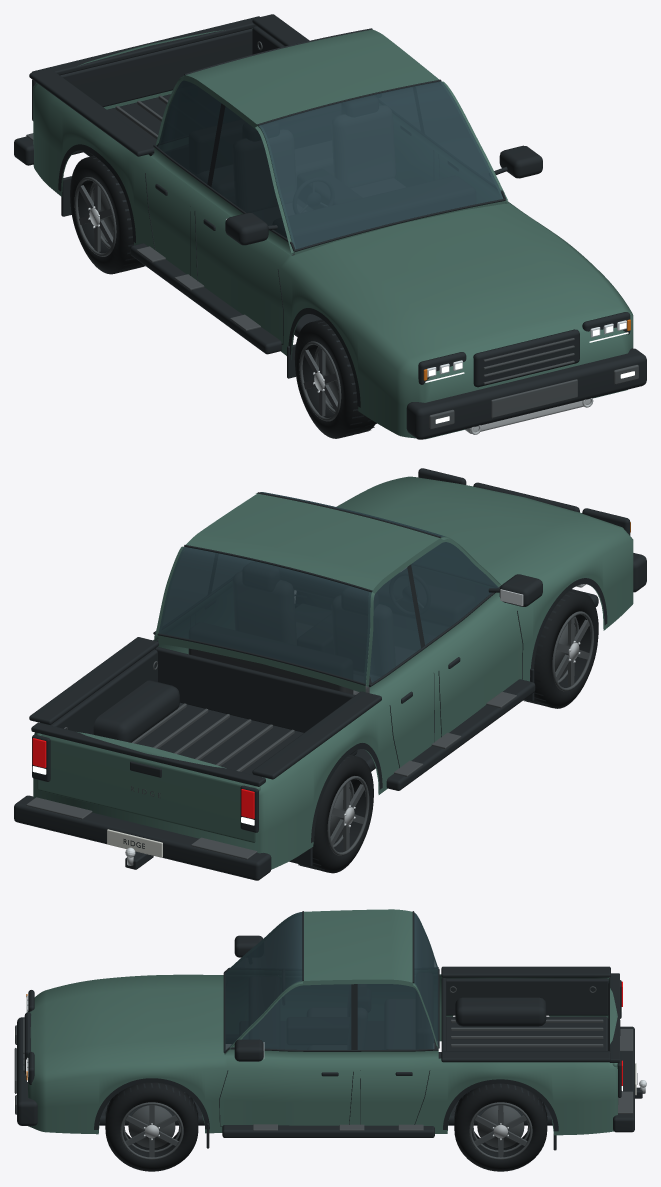
Rendered from support_pickup.glb.
3 renders of one model, top to bottom at view 1: azimuth 30°, elevation 25°; view 2: azimuth 150°, elevation 25°; view 3: azimuth 270°, elevation 25°, orthographic. The views are drawn at different scales.
Visible parts, largest first — view 1: SupportPickupBodyStatic, SupportPickupGlassPanels, SupportPickupInteriorAssembly, PickupWheelFrontLGeometry, PickupWheelRearLGeometry; view 2: SupportPickupBodyStatic, SupportPickupGlassPanels, SupportPickupInteriorAssembly, PickupWheelFrontLGeometry, PickupWheelRearLGeometry; view 3: SupportPickupBodyStatic, SupportPickupGlassPanels, SupportPickupInteriorAssembly, PickupWheelFrontRGeometry, PickupWheelRearRGeometry.
Boxes of the visible parts, bbox=[...] form: SupportPickupBodyStatic: bbox=[14, 14, 646, 439]; SupportPickupGlassPanels: bbox=[157, 80, 503, 249]; SupportPickupInteriorAssembly: bbox=[189, 96, 475, 255]; PickupWheelFrontLGeometry: bbox=[294, 319, 376, 438]; PickupWheelRearLGeometry: bbox=[70, 155, 145, 274]; SupportPickupBodyStatic: bbox=[14, 468, 646, 880]; SupportPickupGlassPanels: bbox=[158, 492, 498, 683]; SupportPickupInteriorAssembly: bbox=[188, 562, 475, 694]; PickupWheelFrontLGeometry: bbox=[523, 589, 598, 708]; PickupWheelRearLGeometry: bbox=[298, 754, 373, 873]; SupportPickupBodyStatic: bbox=[14, 909, 646, 1150]; SupportPickupGlassPanels: bbox=[225, 912, 438, 1050]; SupportPickupInteriorAssembly: bbox=[240, 969, 432, 1049]; PickupWheelFrontRGeometry: bbox=[105, 1082, 198, 1171]; PickupWheelRearRGeometry: bbox=[454, 1083, 547, 1171].
Bounding box in the file's own units: 2.39 × 1.78 × 5.57.
